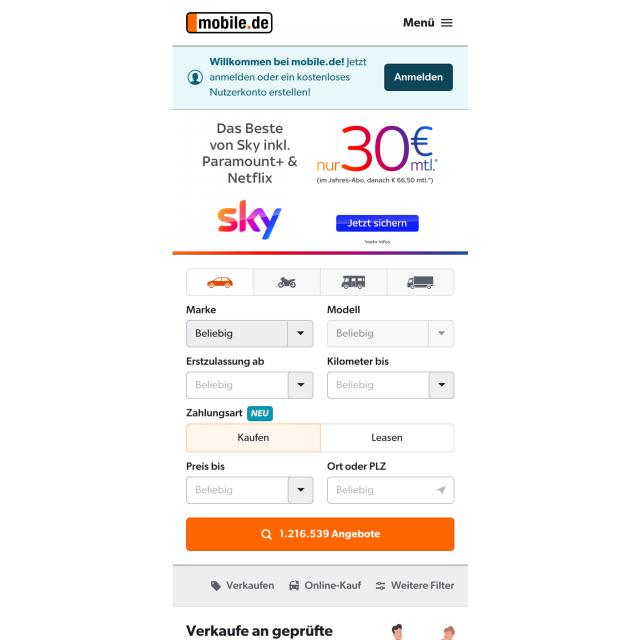input: (327, 477, 454, 504)
logo: (186, 11, 273, 35)
navigation: (403, 14, 453, 31)
